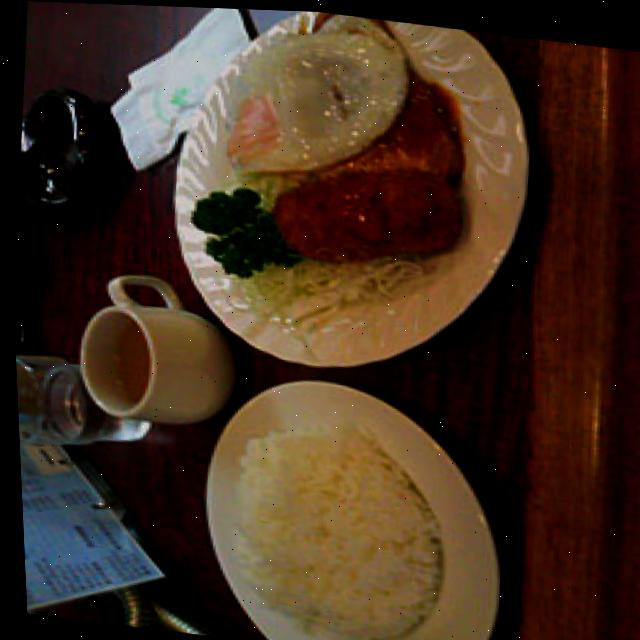鸡蛋料理: (191, 13, 434, 202)
